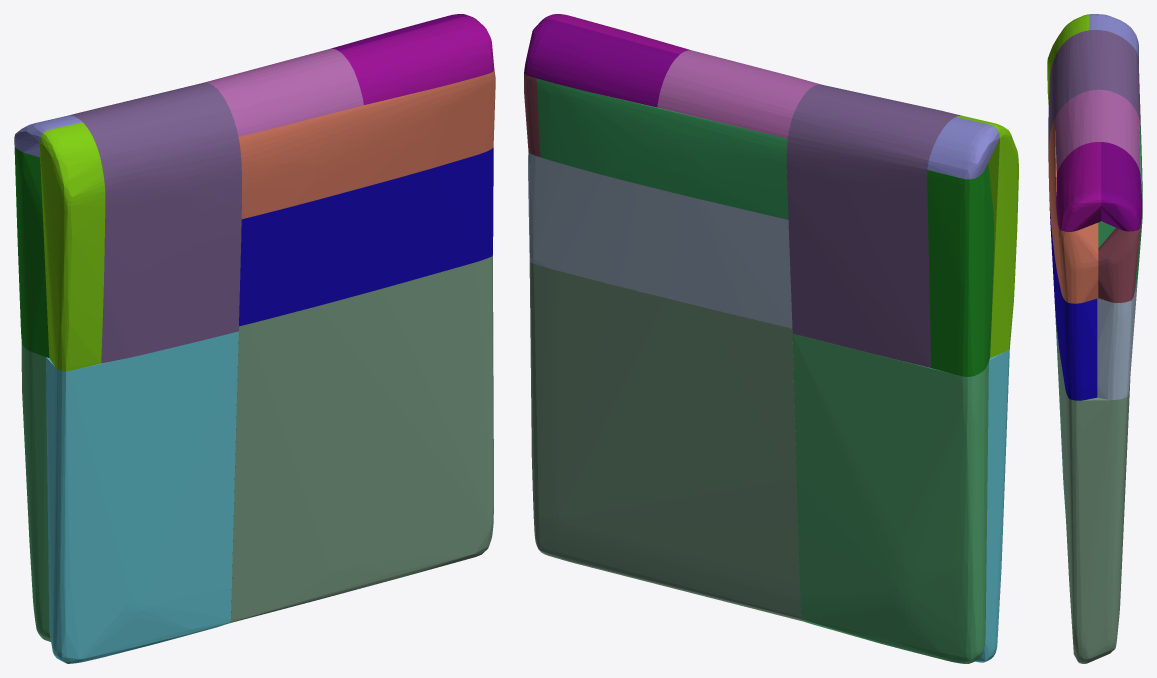
Rendered from coacd_collision.obj.
3 views of the same model, side by side, from view 1: azimuth 30°, elevation 25°; view 2: azimuth 150°, elevation 25°; view 3: azimuth 270°, elevation 25° (orthographic). The views are drawn at different scales.
Parts seen in each view (by area): view 1: geometry_0, geometry_2, geometry_1, geometry_5, geometry_9, geometry_4, geometry_14, geometry_7, geometry_3, geometry_8, geometry_12, geometry_11; view 2: geometry_0, geometry_3, geometry_1, geometry_6, geometry_10, geometry_8, geometry_7, geometry_11, geometry_4, geometry_2, geometry_12, geometry_14 (+1 smaller); view 3: geometry_0, geometry_1, geometry_7, geometry_5, geometry_9, geometry_14, geometry_6, geometry_11, geometry_13, geometry_12, geometry_4, geometry_10 (+1 smaller).
Boxes of the visible parts, x1,y1,x2,y2 form: geometry_0: [229, 255, 493, 623]; geometry_2: [46, 331, 238, 663]; geometry_1: [68, 82, 241, 363]; geometry_5: [239, 147, 493, 326]; geometry_9: [238, 70, 495, 219]; geometry_4: [39, 122, 105, 371]; geometry_14: [339, 16, 494, 104]; geometry_7: [203, 48, 363, 136]; geometry_3: [21, 344, 50, 641]; geometry_8: [14, 147, 49, 357]; geometry_12: [14, 115, 82, 157]; geometry_11: [331, 14, 472, 50]; geometry_0: [529, 260, 803, 621]; geometry_3: [792, 334, 988, 663]; geometry_1: [786, 84, 962, 367]; geometry_6: [528, 151, 792, 328]; geometry_10: [536, 78, 788, 219]; geometry_8: [927, 163, 993, 376]; geometry_7: [657, 50, 822, 138]; geometry_11: [524, 19, 679, 107]; geometry_4: [956, 115, 1018, 358]; geometry_2: [975, 347, 1009, 662]; geometry_12: [927, 117, 999, 179]; geometry_14: [542, 14, 690, 54]; geometry_0: [1055, 308, 1130, 663]; geometry_1: [1048, 30, 1140, 161]; geometry_7: [1055, 89, 1140, 172]; geometry_5: [1049, 200, 1097, 400]; geometry_9: [1048, 119, 1098, 303]; geometry_14: [1056, 142, 1101, 231]; geometry_6: [1097, 269, 1138, 399]; geometry_11: [1101, 142, 1142, 231]; geometry_13: [1098, 227, 1140, 302]; geometry_12: [1089, 14, 1138, 57]; geometry_4: [1047, 14, 1089, 105]; geometry_10: [1098, 120, 1142, 293].
Bounding box in the file's own units: 102 × 116 × 21.18.
